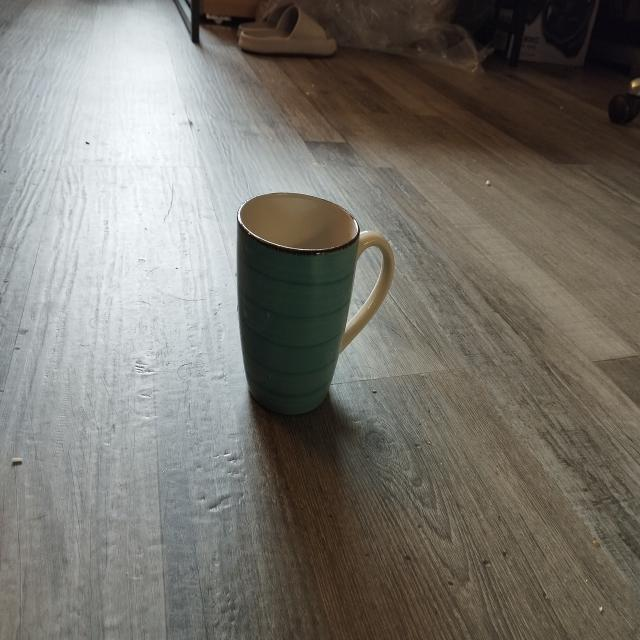Cup: (220, 174, 412, 446)
